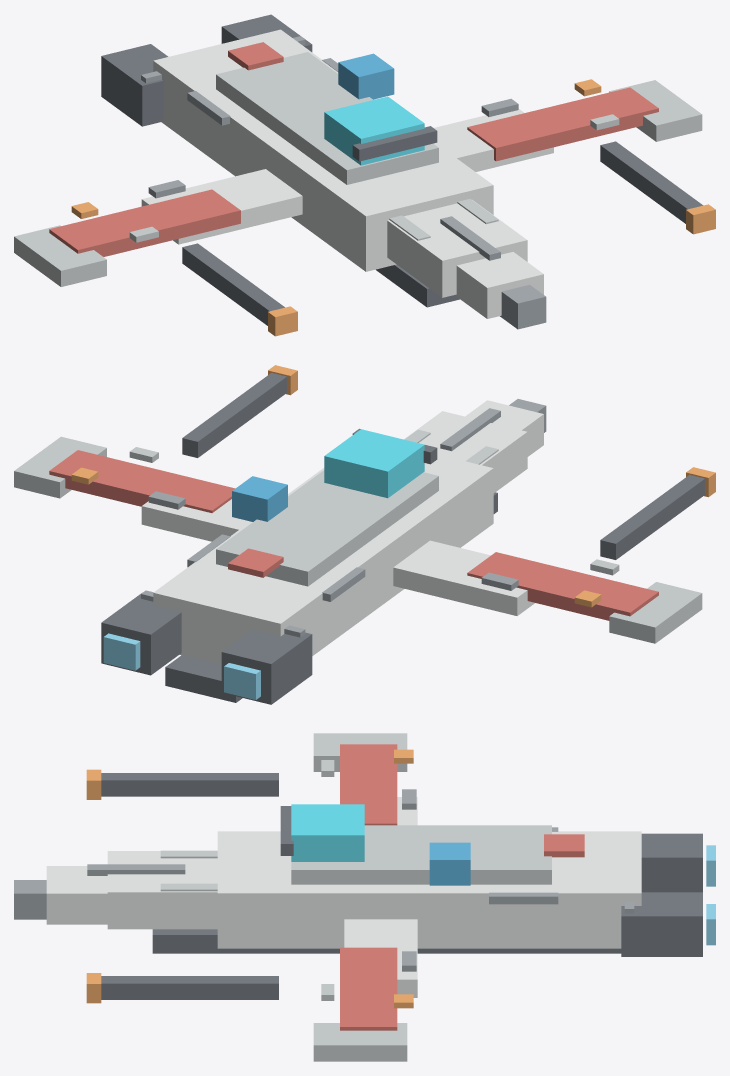
Rendered from micro_arc_interceptor_panel_v2.glb.
3 renders of one model, top to bottom at view 1: azimuth 30°, elevation 25°; view 2: azimuth 150°, elevation 25°; view 3: azimuth 270°, elevation 25°, orthographic.
Parts seen in each view (by area): view 1: center_hull, upper_hull, right_red_panel, left_red_panel, nose_step_a, left_wing_root, left_engine, cockpit, nose_step_b, left_wing_tip, right_cannon, left_cannon (+12 smaller); view 2: center_hull, upper_hull, left_red_panel, right_red_panel, left_wing_root, cockpit, left_engine, nose_step_a, right_engine, left_wing_tip, right_cannon, left_cannon (+10 smaller); view 3: center_hull, upper_hull, nose_step_a, right_engine, right_red_panel, left_cannon, right_cannon, cockpit, left_red_panel, left_engine, keel_shadow, nose_step_b (+9 smaller).
Part boxes in pixels (x1,y1,x2,y2): center_hull: [153, 29, 493, 271]; upper_hull: [216, 52, 438, 184]; right_red_panel: [467, 87, 658, 161]; left_red_panel: [49, 189, 240, 256]; nose_step_a: [387, 200, 527, 297]; left_wing_root: [141, 169, 302, 244]; left_engine: [101, 44, 168, 126]; cockpit: [324, 96, 424, 165]; nose_step_b: [455, 252, 543, 318]; left_wing_tip: [14, 225, 106, 286]; right_cannon: [600, 141, 703, 223]; left_cannon: [182, 243, 284, 325]; center_hull: [153, 454, 493, 664]; upper_hull: [216, 470, 438, 586]; left_red_panel: [467, 552, 658, 620]; right_red_panel: [49, 450, 235, 512]; left_wing_root: [393, 540, 534, 615]; cockpit: [324, 429, 424, 498]; left_engine: [221, 629, 312, 704]; nose_step_a: [404, 411, 527, 493]; right_engine: [101, 592, 181, 675]; left_wing_tip: [609, 582, 702, 643]; right_cannon: [182, 373, 286, 457]; left_cannon: [600, 475, 704, 559]; center_hull: [217, 831, 641, 948]; upper_hull: [291, 825, 551, 884]; nose_step_a: [107, 851, 217, 929]; right_engine: [621, 892, 702, 956]; right_red_panel: [340, 947, 397, 1030]; left_cannon: [101, 773, 278, 796]; right_cannon: [101, 976, 278, 999]; cockpit: [291, 804, 364, 861]; left_red_panel: [340, 744, 397, 825]; left_engine: [641, 833, 702, 892]; keel_shadow: [152, 929, 621, 953]; nose_step_b: [46, 866, 107, 924].
Bounding box in the file's own units: 9.05 × 1.58 × 8.61.
